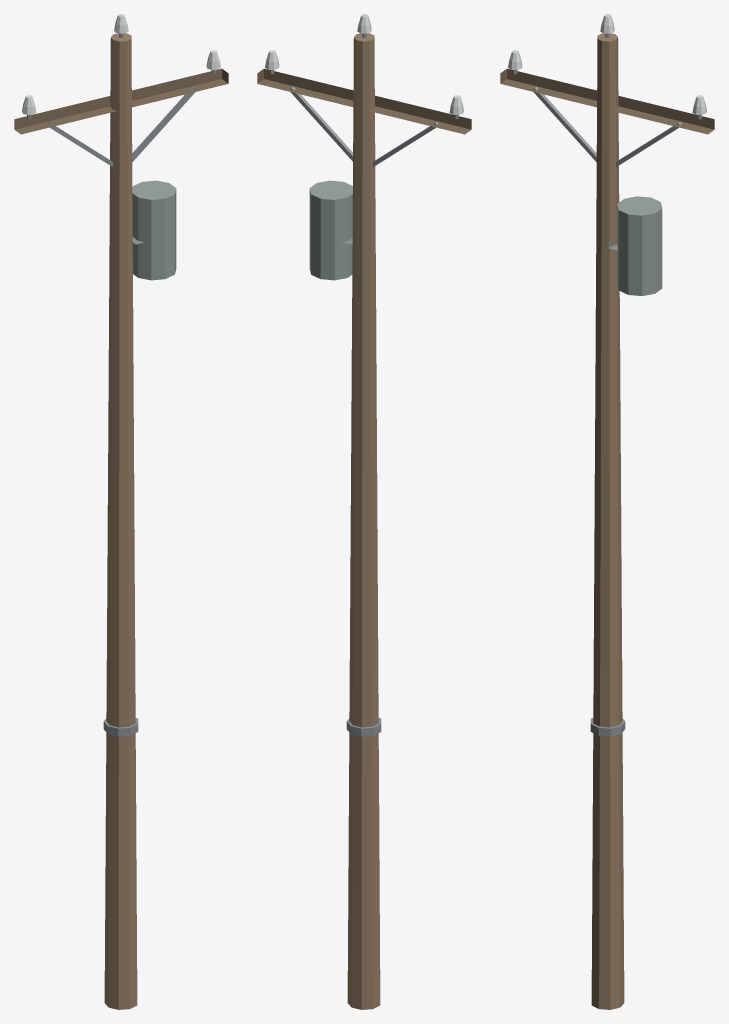
The model's file is wooden_power_pole.glb.
The picture shows the model from 3 angles, left to right: view 1: azimuth 30°, elevation 25°; view 2: azimuth 150°, elevation 25°; view 3: azimuth 330°, elevation 25°; orthographic projection.
Visible parts, largest first — view 1: wooden_power_pole; view 2: wooden_power_pole; view 3: wooden_power_pole.
Part boxes in pixels (bbox=[...]): wooden_power_pole: bbox=[14, 14, 228, 1009]; wooden_power_pole: bbox=[257, 14, 471, 1009]; wooden_power_pole: bbox=[500, 14, 714, 1009].
Size of the model in its own units: 2.7 by 12.27 by 0.52.
